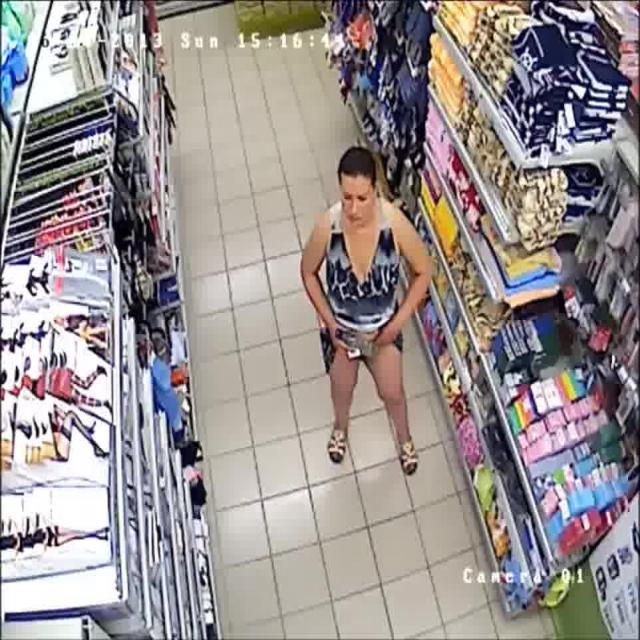persone: (295, 136, 441, 484)
